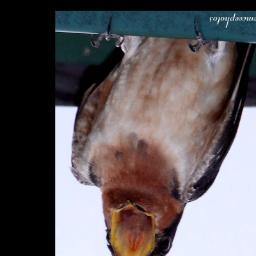Swallow: (70, 19, 254, 256)
